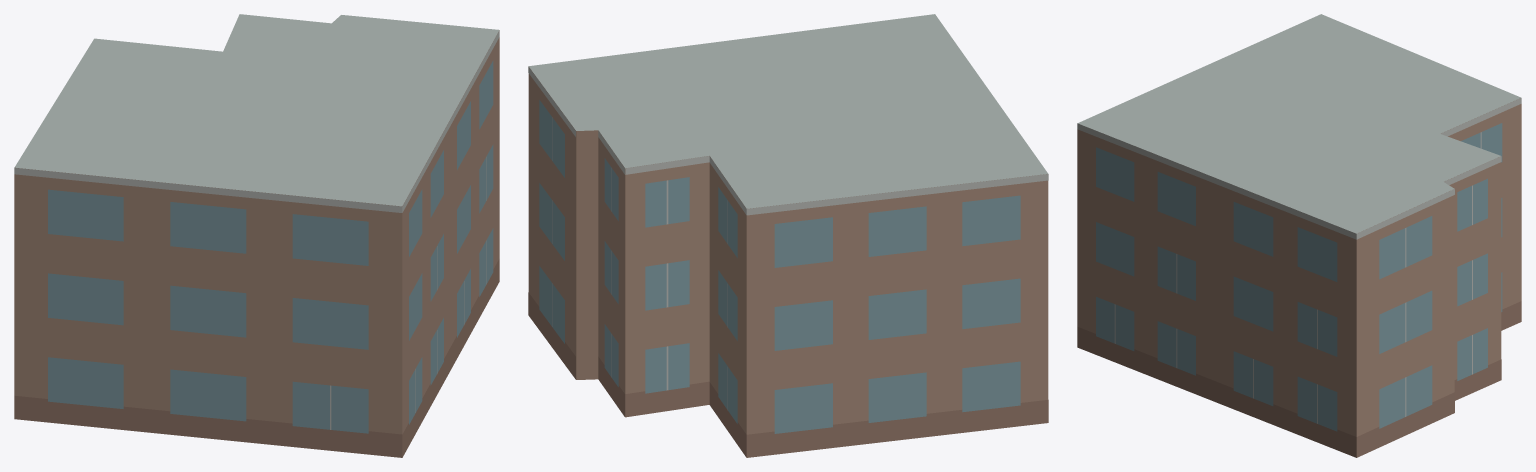
Rendered from survey-upis-32511297.glb.
The picture shows the model from 3 angles, left to right: view 1: azimuth 30°, elevation 25°; view 2: azimuth 150°, elevation 25°; view 3: azimuth 270°, elevation 25°; orthographic projection. The views are drawn at different scales.
Parts seen in each view (by area): view 1: survey-upis-32511297.tmp; view 2: survey-upis-32511297.tmp; view 3: survey-upis-32511297.tmp.
Boxes of the visible parts, left/top/right/bottom form: survey-upis-32511297.tmp: left=14, top=14, right=499, bottom=457; survey-upis-32511297.tmp: left=528, top=14, right=1048, bottom=457; survey-upis-32511297.tmp: left=1077, top=14, right=1521, bottom=457.
Size of the model in its own units: 19.24 by 9.15 by 16.44.
